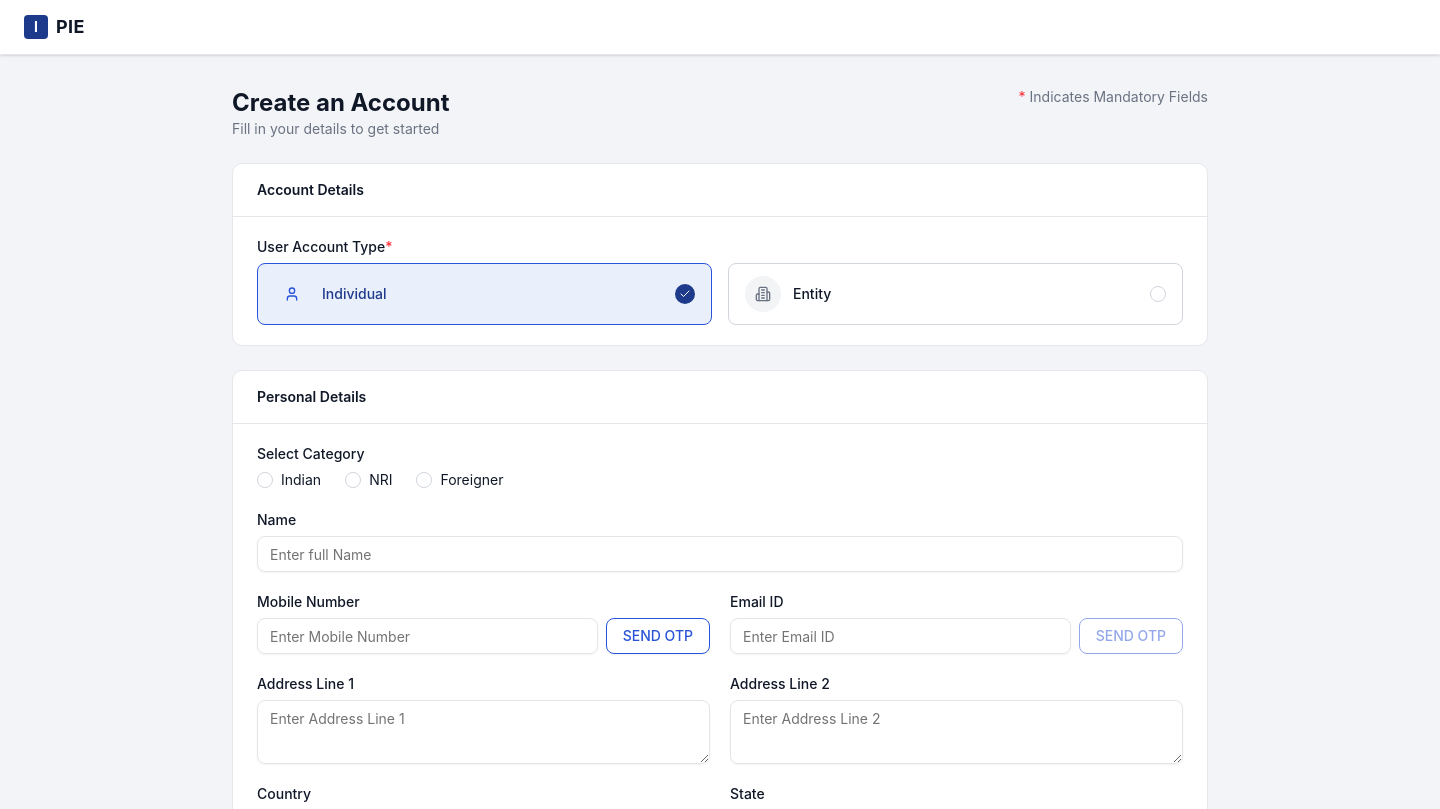
Test case: RegisterPage › completes the email-OTP flow, then submits the full Individual registration payload
Type "Jane Doe" into the field with placeholder "Enter full Name". click: [720, 554]
box: [257, 536, 1183, 572]
Type "+91 9800000009" into the field with placeholder "Enter Mobile Number". click: [427, 636]
box: [257, 618, 598, 654]
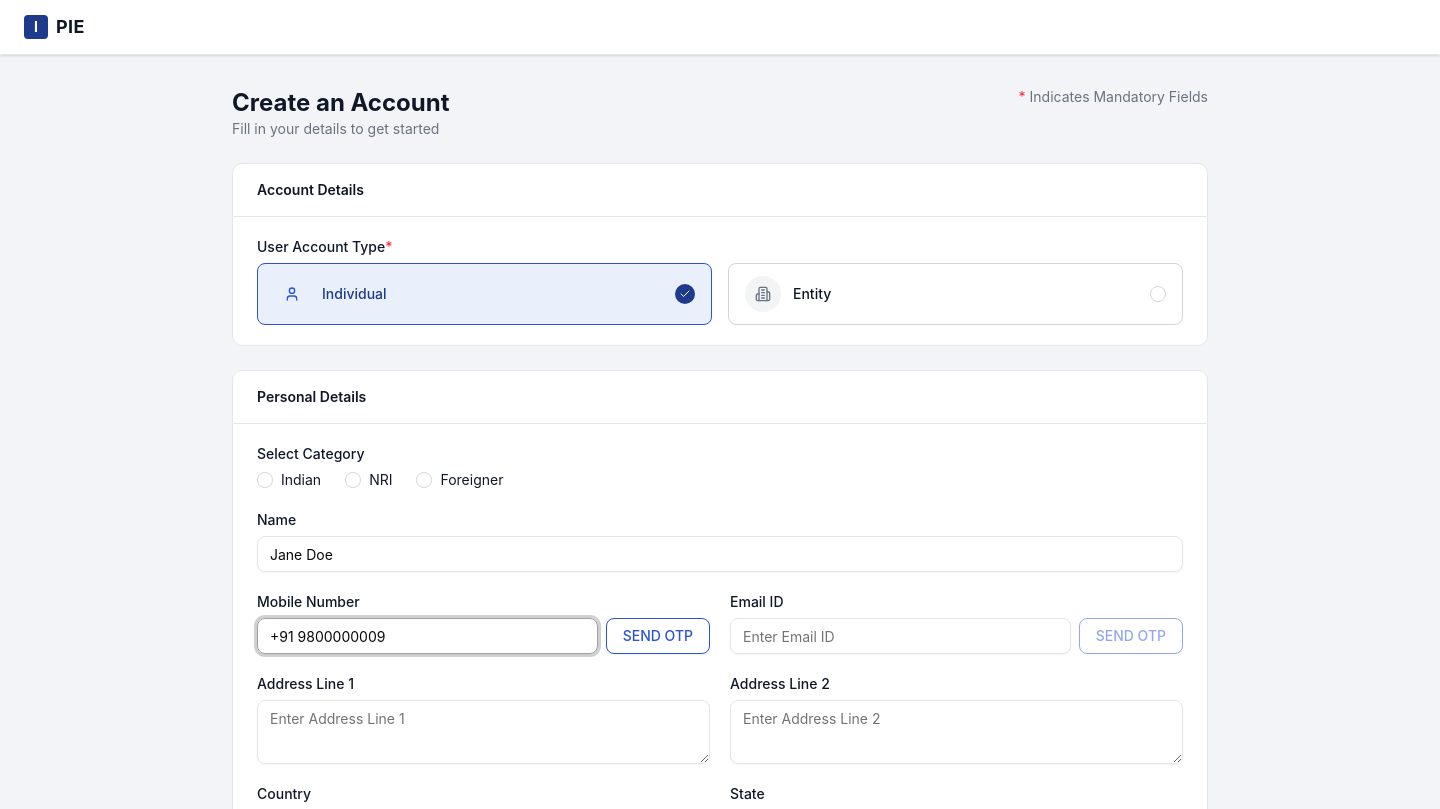
Type "jane@example.com" into the field with placeholder "Enter Email ID". click: [900, 636]
box: [730, 618, 1071, 654]
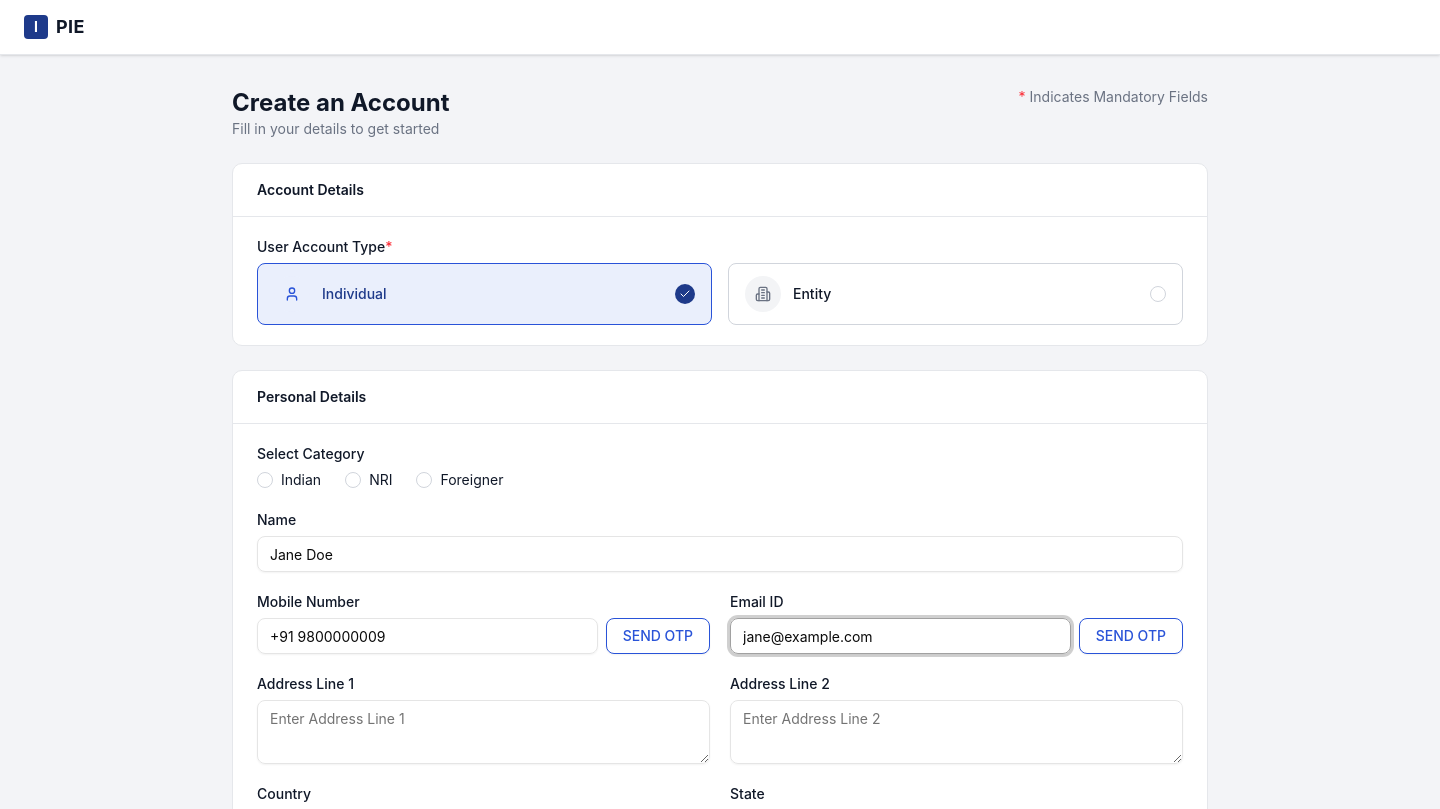
Click the 2nd button "SEND OTP". click: [1131, 636]
box: [1079, 618, 1183, 654]
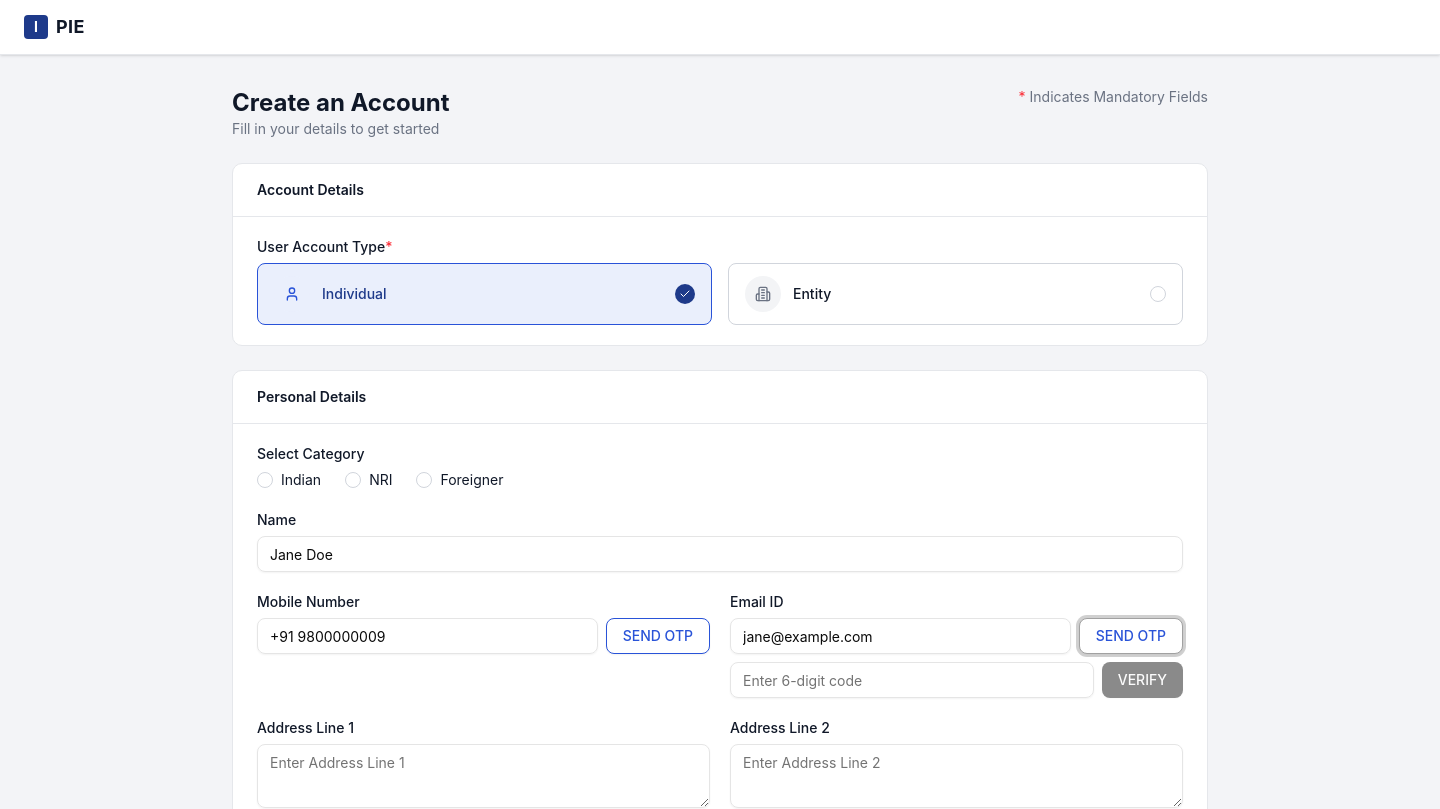
Type "654321" into the field with placeholder "Enter 6-digit code". click: [912, 680]
box: [730, 662, 1094, 698]
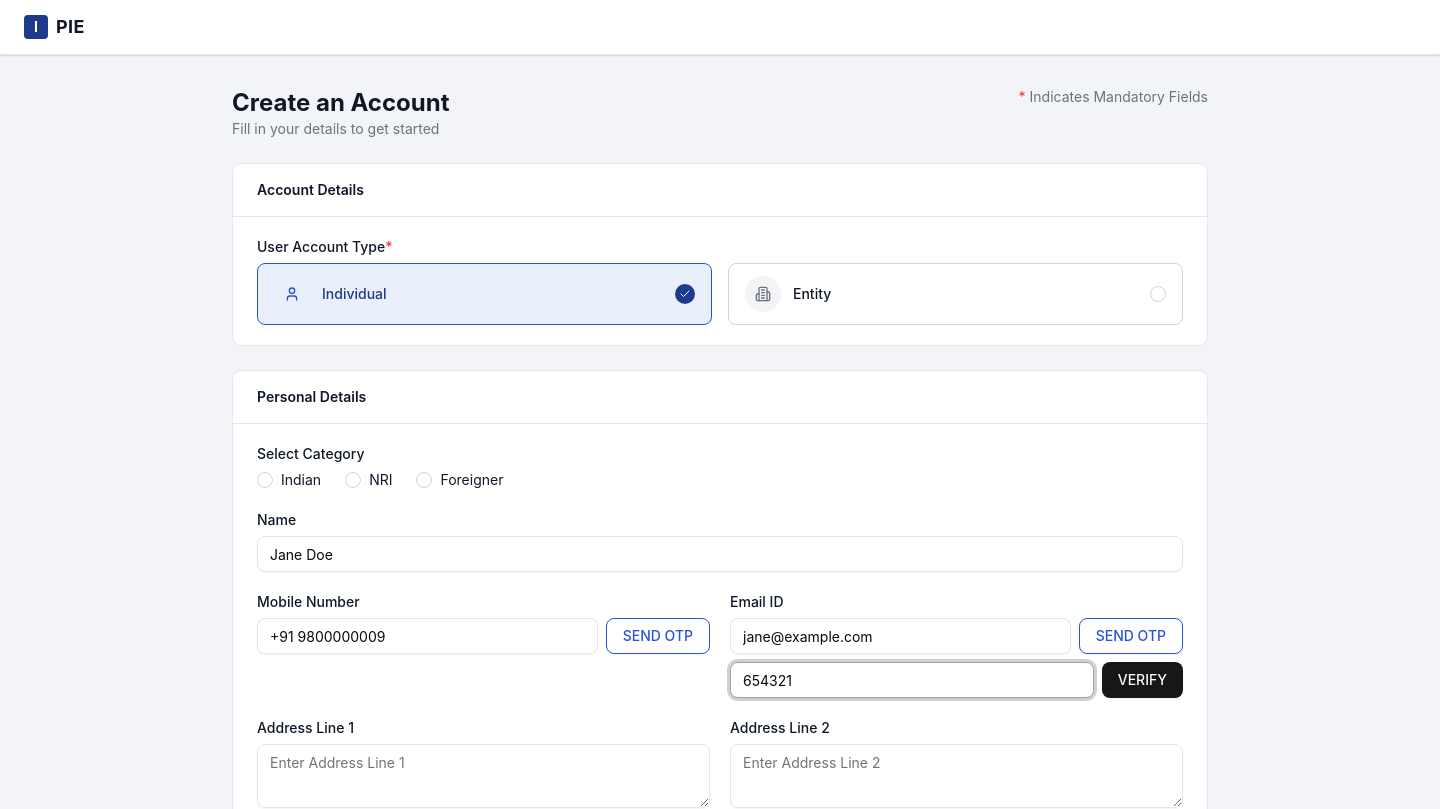
Click the button "VERIFY". click: [1142, 680]
box: [1102, 662, 1183, 698]
(page scrolled)
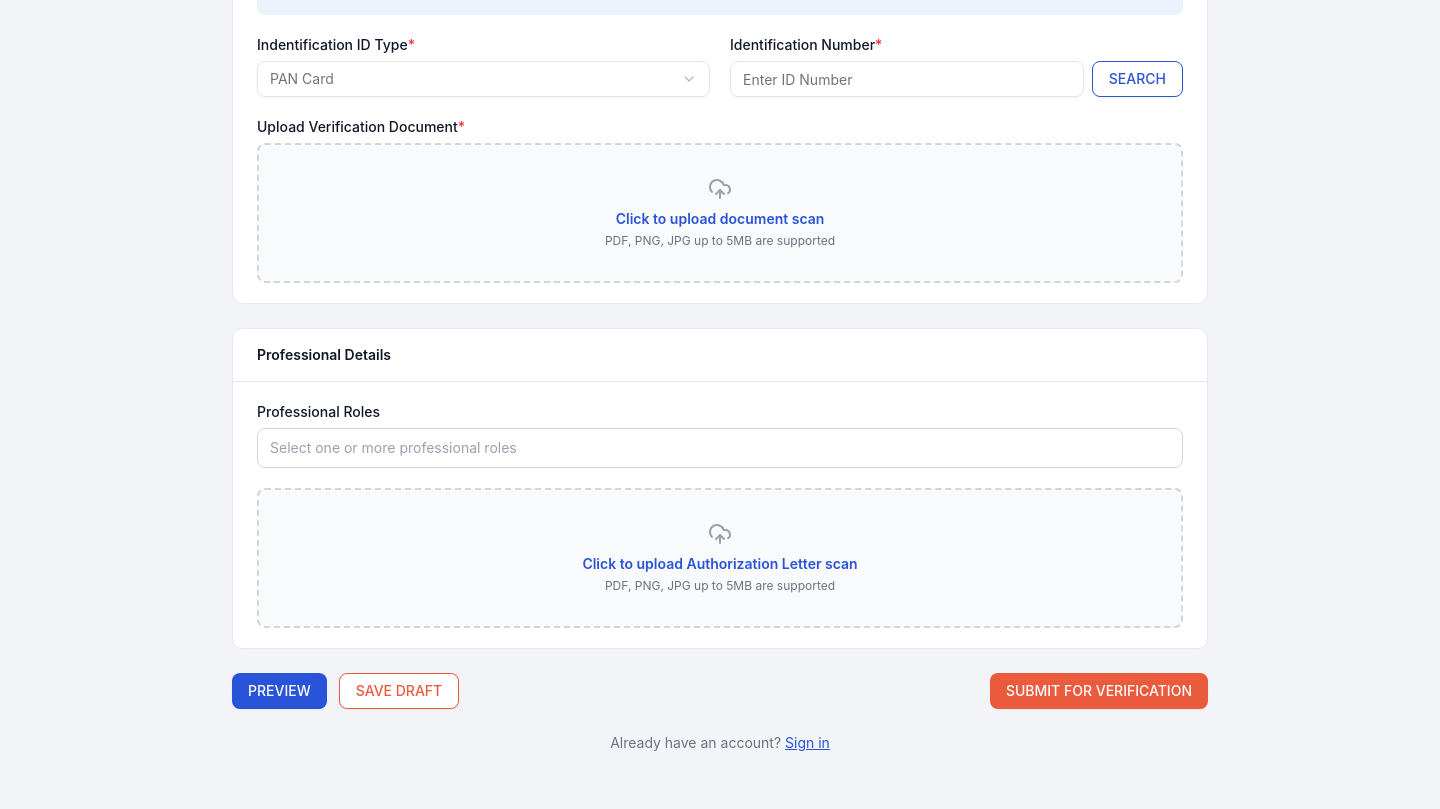
Click the button "SUBMIT FOR VERIFICATION". click: [1099, 691]
box: [990, 673, 1208, 709]
(page scrolled)
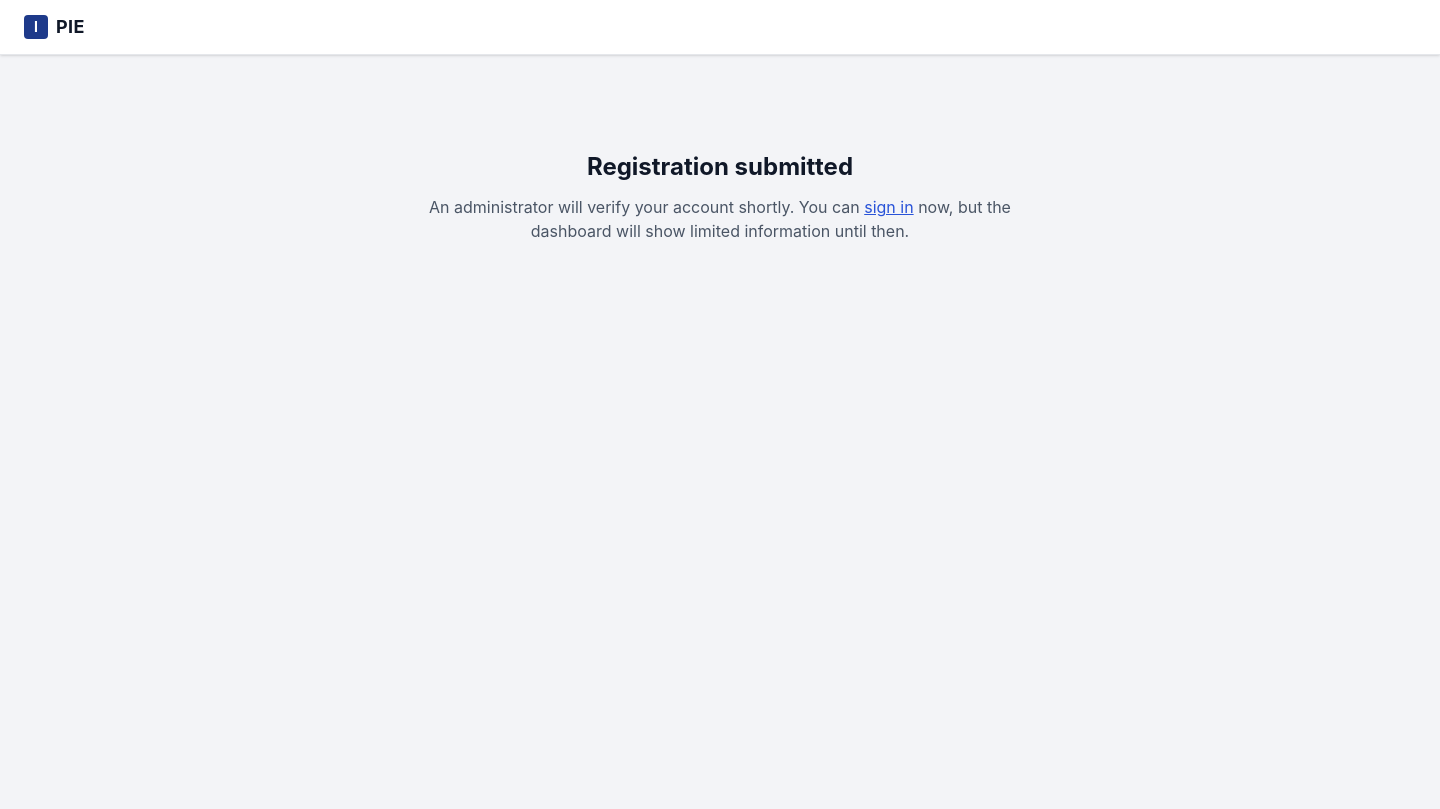
Check: the heading "Registration submitted" is shown, box [587, 151, 853, 183]
